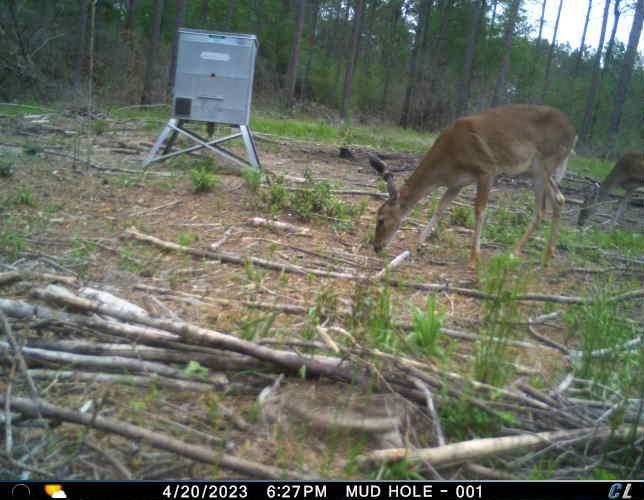Deer: (371, 99, 581, 274), (593, 149, 644, 224)
